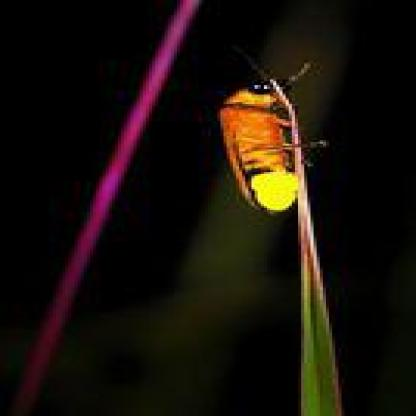beetle: (210, 68, 331, 216)
